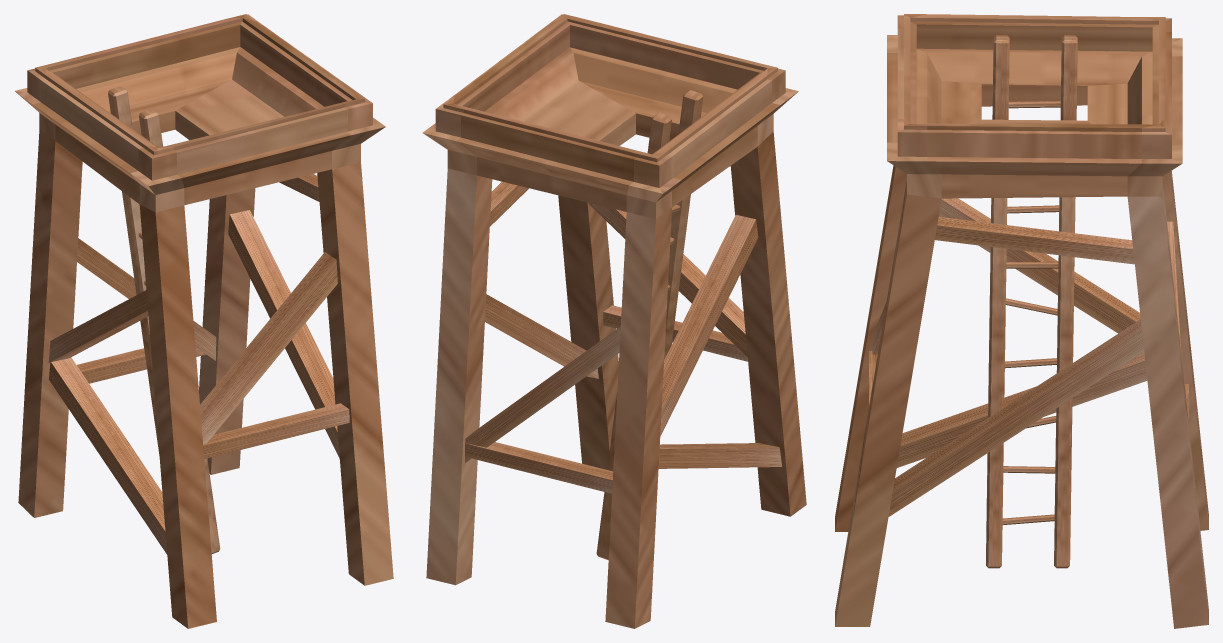
Rendered from tower(nf).fbx.
The picture shows the model from 3 angles, left to right: view 1: azimuth 30°, elevation 25°; view 2: azimuth 150°, elevation 25°; view 3: azimuth 270°, elevation 25°; orthographic projection. The views are drawn at different scales.
Visible parts, largest first — view 1: Cube; view 2: Cube; view 3: Cube.
Boxes of the visible parts, bbox=[...] form: Cube: bbox=[15, 14, 393, 628]; Cube: bbox=[422, 14, 806, 628]; Cube: bbox=[835, 14, 1208, 628].
Bounding box in the file's own units: 460 × 848 × 569.
